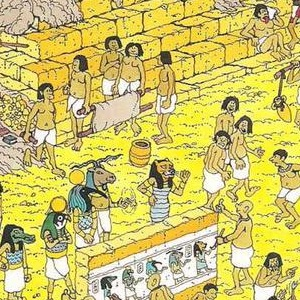Odlaw: (66, 104, 118, 204)
Wenda: (193, 106, 229, 202)
Wizard Whitebeard: (118, 99, 183, 201)
